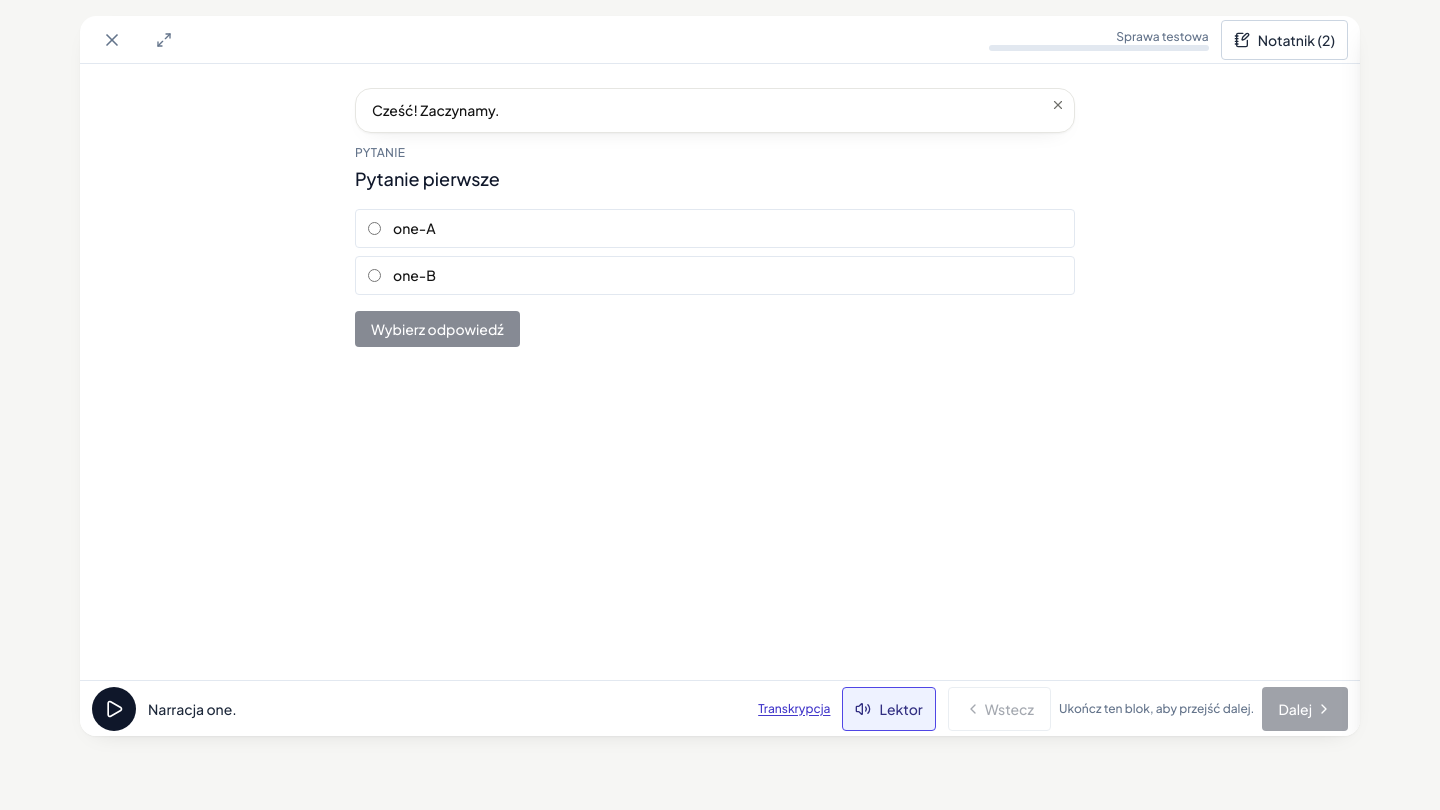
Test: CoursePlayer: powłoka (postęp, nawigacja, notatnik, lektor) › notatnik › licznik z /start, panel pokazuje treść notatek po kliknięciu (aria-expanded, aria-controls tylko gdy panel istnieje)
Click the button "Notatnik (2)" at x=1284, y=40, box left=1221, top=20, right=1348, bottom=60
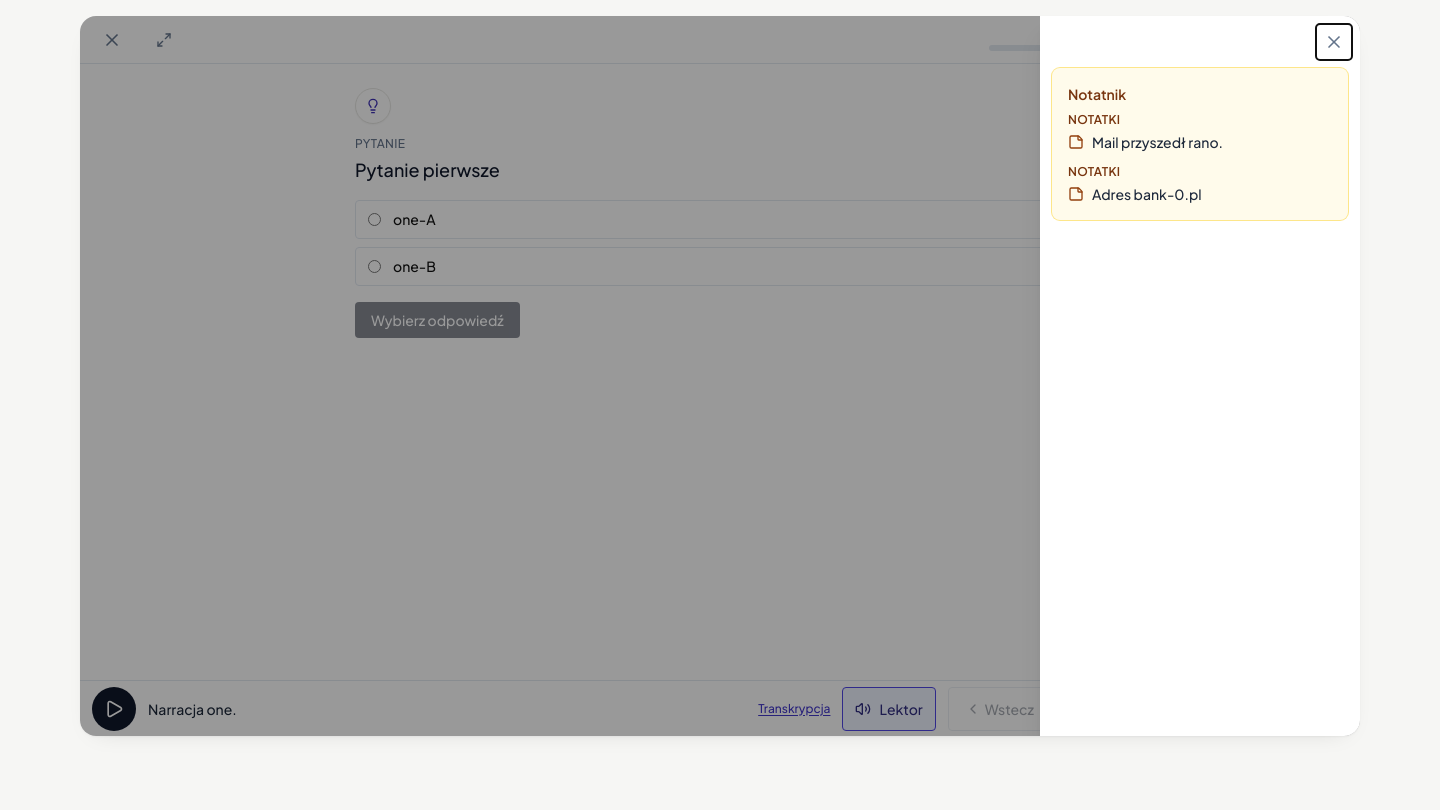
Now the button "Notatnik (2)" is expanded, box left=1221, top=20, right=1348, bottom=60
Now the text "Mail przyszedł rano." is shown, box left=1092, top=132, right=1223, bottom=152
Now the text "Adres bank-0.pl" is shown, box left=1092, top=184, right=1202, bottom=204
